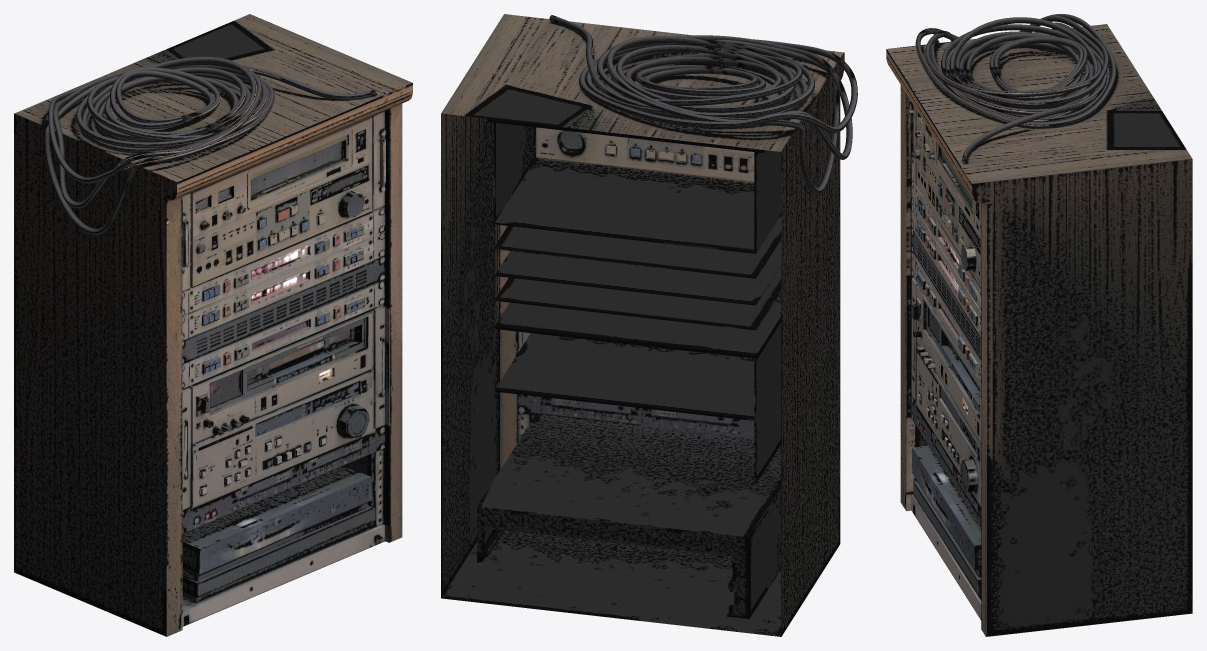
File: cabinet_left.glb
3 views of the same model, side by side, from view 1: azimuth 30°, elevation 25°; view 2: azimuth 150°, elevation 25°; view 3: azimuth 270°, elevation 25° (orthographic). The views are drawn at different scales.
Visible parts, largest first — view 1: Stack1; view 2: Stack1; view 3: Stack1.
Part boxes in pixels (x1,y1,x2,y2): Stack1: [14, 14, 412, 636]; Stack1: [441, 14, 857, 636]; Stack1: [886, 14, 1192, 636].
Bounding box in the file's own units: 1.1 × 1.53 × 0.8808.
Materials: 1 (1 with a texture image).
